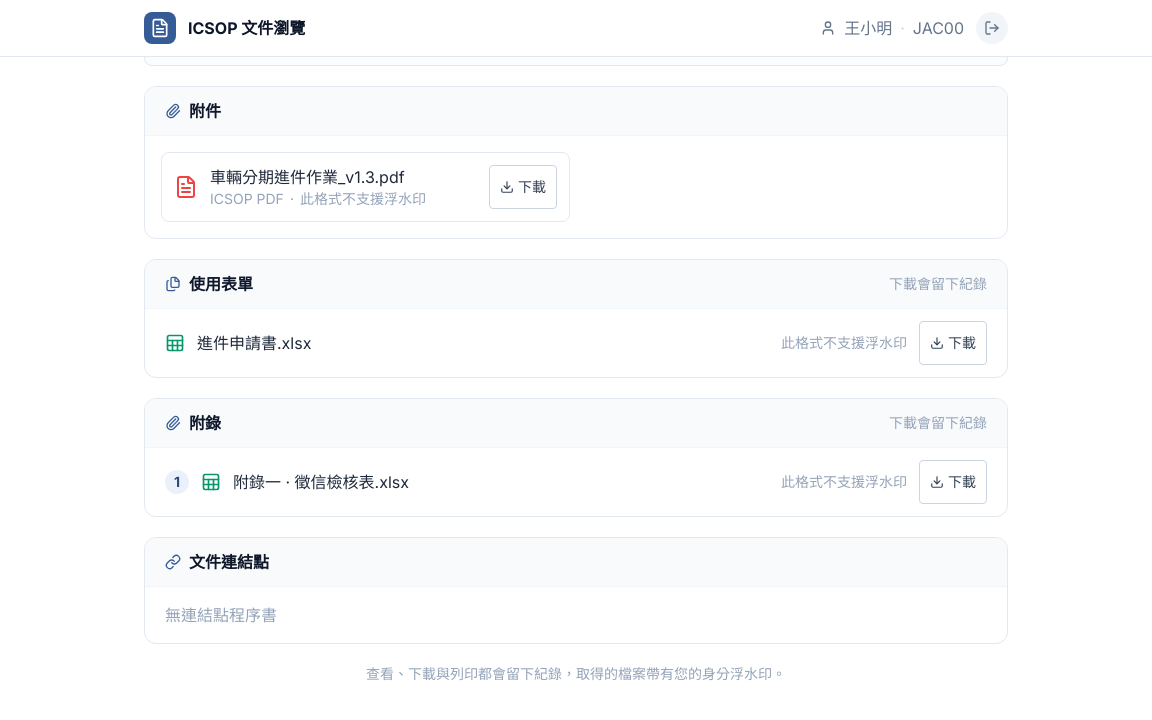
前台詳情 · UX 稽核回歸（A-2 下載併發鎖） › 附錄下載同樣受併發鎖保護
(page scrolled)
Click the button with aria-label "下載 附錄一 · 徵信檢核表.xlsx": (953, 482) [919,460,987,504]
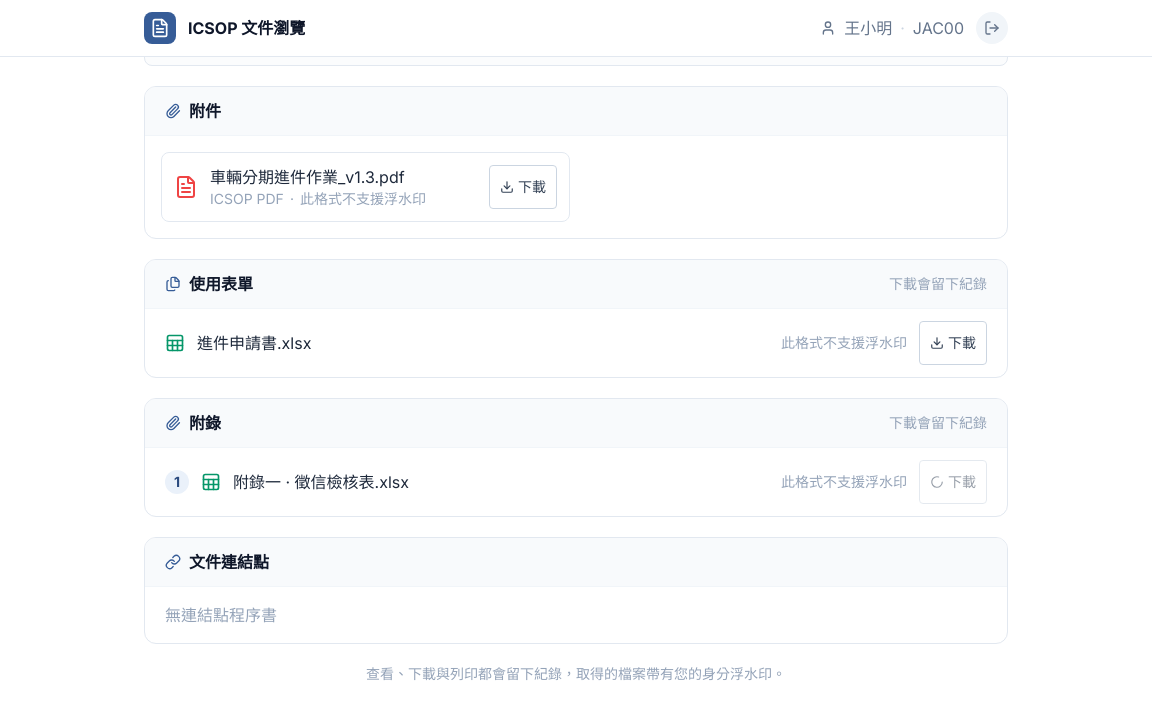
Check: the button with aria-label "下載 附錄一 · 徵信檢核表.xlsx" is disabled
Click the button with aria-label "下載 附錄一 · 徵信檢核表.xlsx": (953, 482) [919,460,987,504]
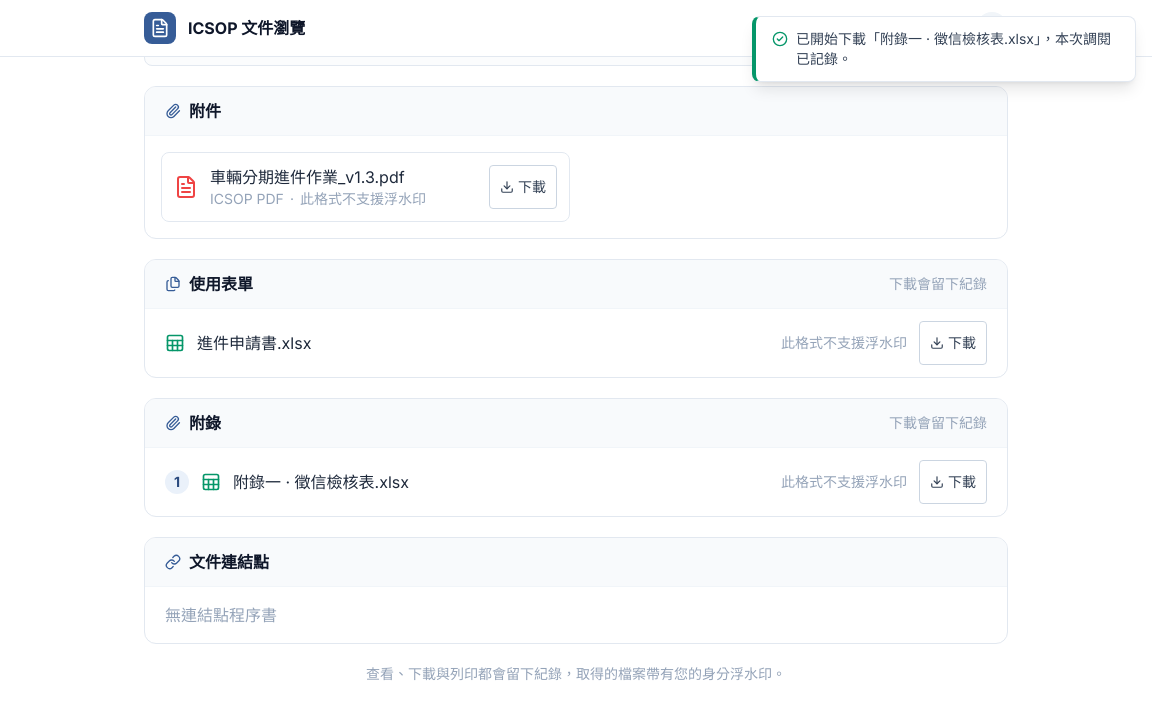
Check: the button with aria-label "下載 附錄一 · 徵信檢核表.xlsx" is enabled, box [919,460,987,504]
